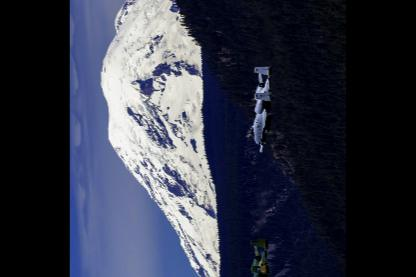A10: (250, 65, 272, 151), (246, 236, 269, 275)
